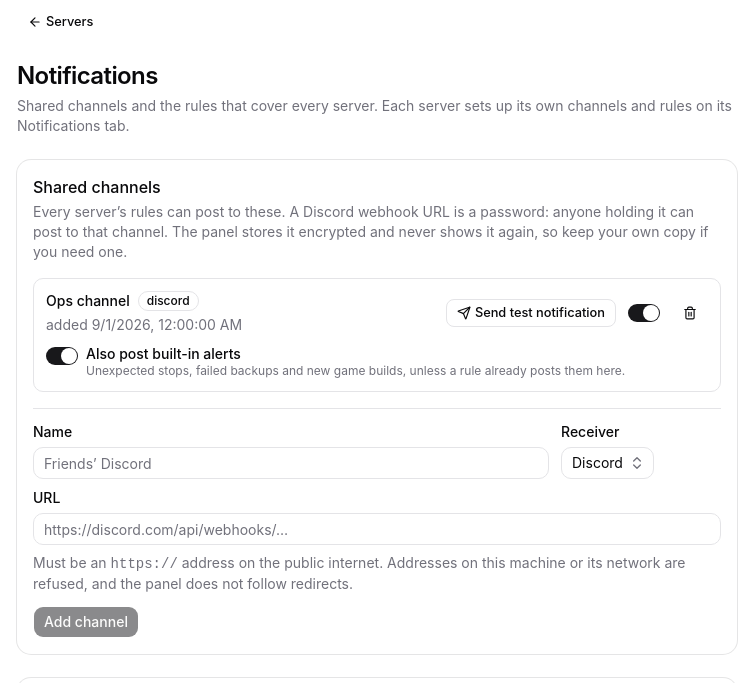
Test: the shared channels › shows the daemon’s refusal of an address
Step 1. Type "LAN" into the field labelled "Name" → (291, 463), box top-left (33, 447), bottom-right (549, 479)
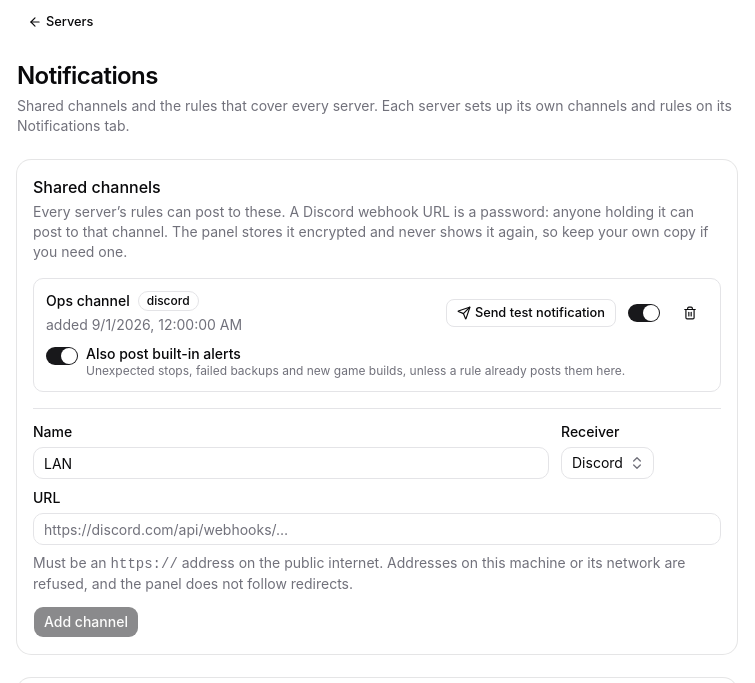
Step 2. Type "https://10.0.0.5/hook" into the field labelled "URL" → (377, 529), box top-left (33, 513), bottom-right (721, 545)
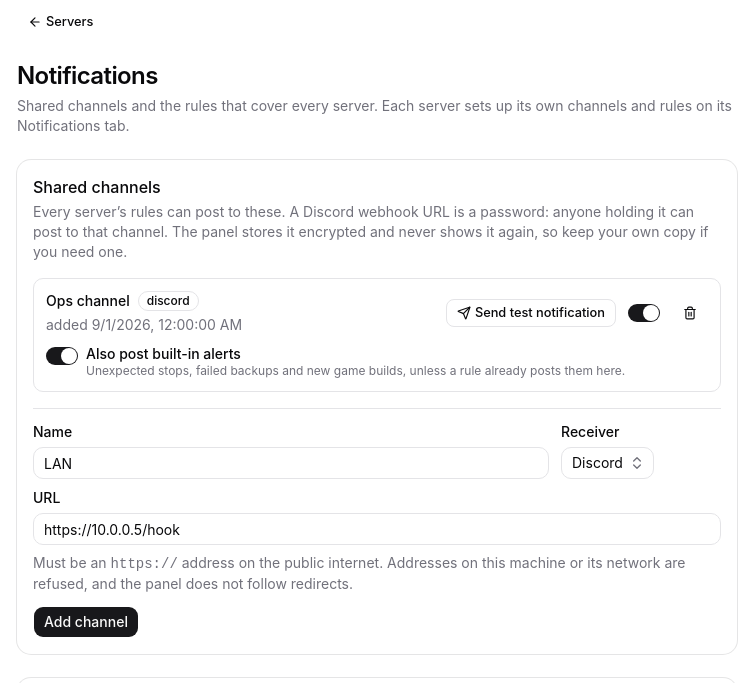
Step 3. Click the button "Add channel" → (86, 622), box top-left (33, 606), bottom-right (139, 638)
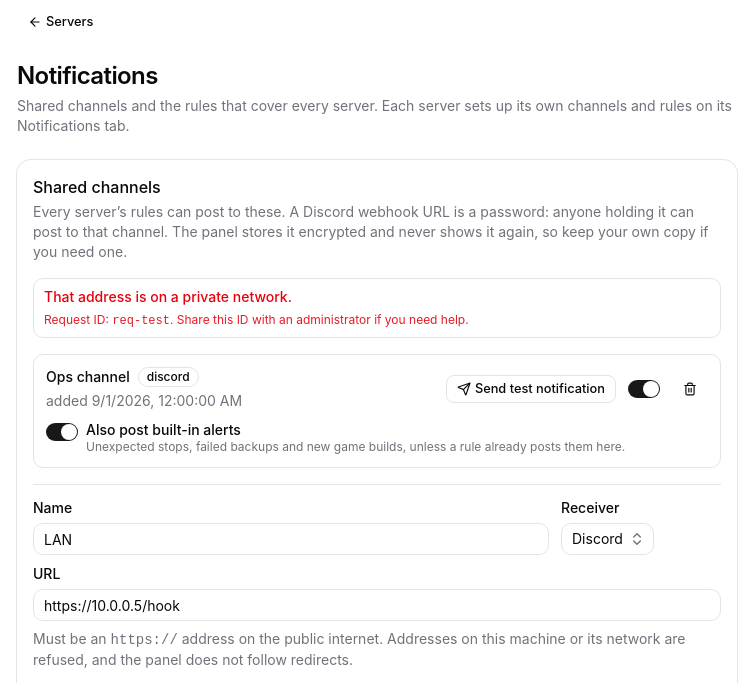
Result: the text "That address is on a private network." is shown at top-left (44, 288), bottom-right (292, 305)
